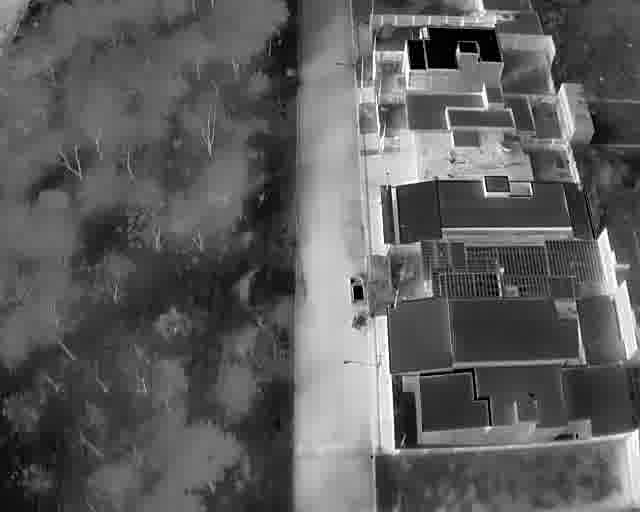car: (347, 272, 367, 305)
